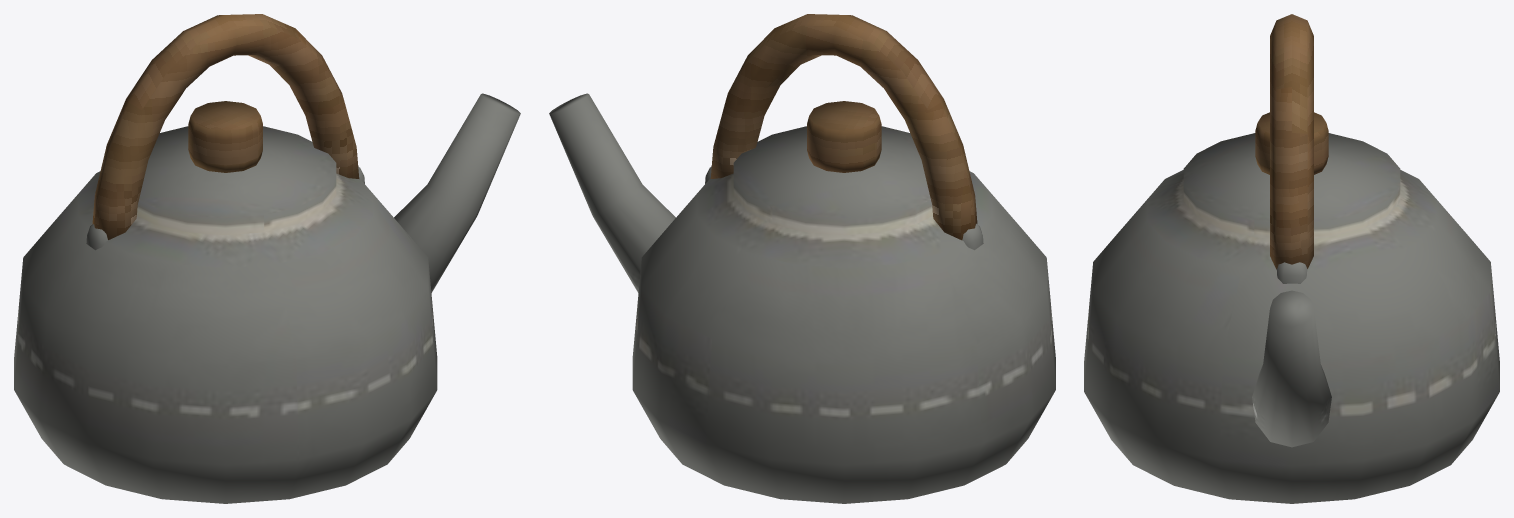
File: kettle_tin.glb
3 views of the same model, side by side, from view 1: azimuth 30°, elevation 25°; view 2: azimuth 150°, elevation 25°; view 3: azimuth 270°, elevation 25° (orthographic).
Parts seen in each view (by area): view 1: prop_kettle_tin_felt, prop_kettle_tin_wood; view 2: prop_kettle_tin_felt, prop_kettle_tin_wood; view 3: prop_kettle_tin_felt, prop_kettle_tin_wood.
Boxes of the visible parts, left/top/right/bottom form: prop_kettle_tin_felt: left=14, top=93, right=520, bottom=503; prop_kettle_tin_wood: left=92, top=14, right=359, bottom=239; prop_kettle_tin_felt: left=549, top=93, right=1055, bottom=503; prop_kettle_tin_wood: left=710, top=14, right=977, bottom=240; prop_kettle_tin_felt: left=1084, top=133, right=1499, bottom=503; prop_kettle_tin_wood: left=1255, top=14, right=1328, bottom=269.
Size of the model in its own units: 0.5906 by 0.484 by 0.453.
Materials: 2 (2 with a texture image).
